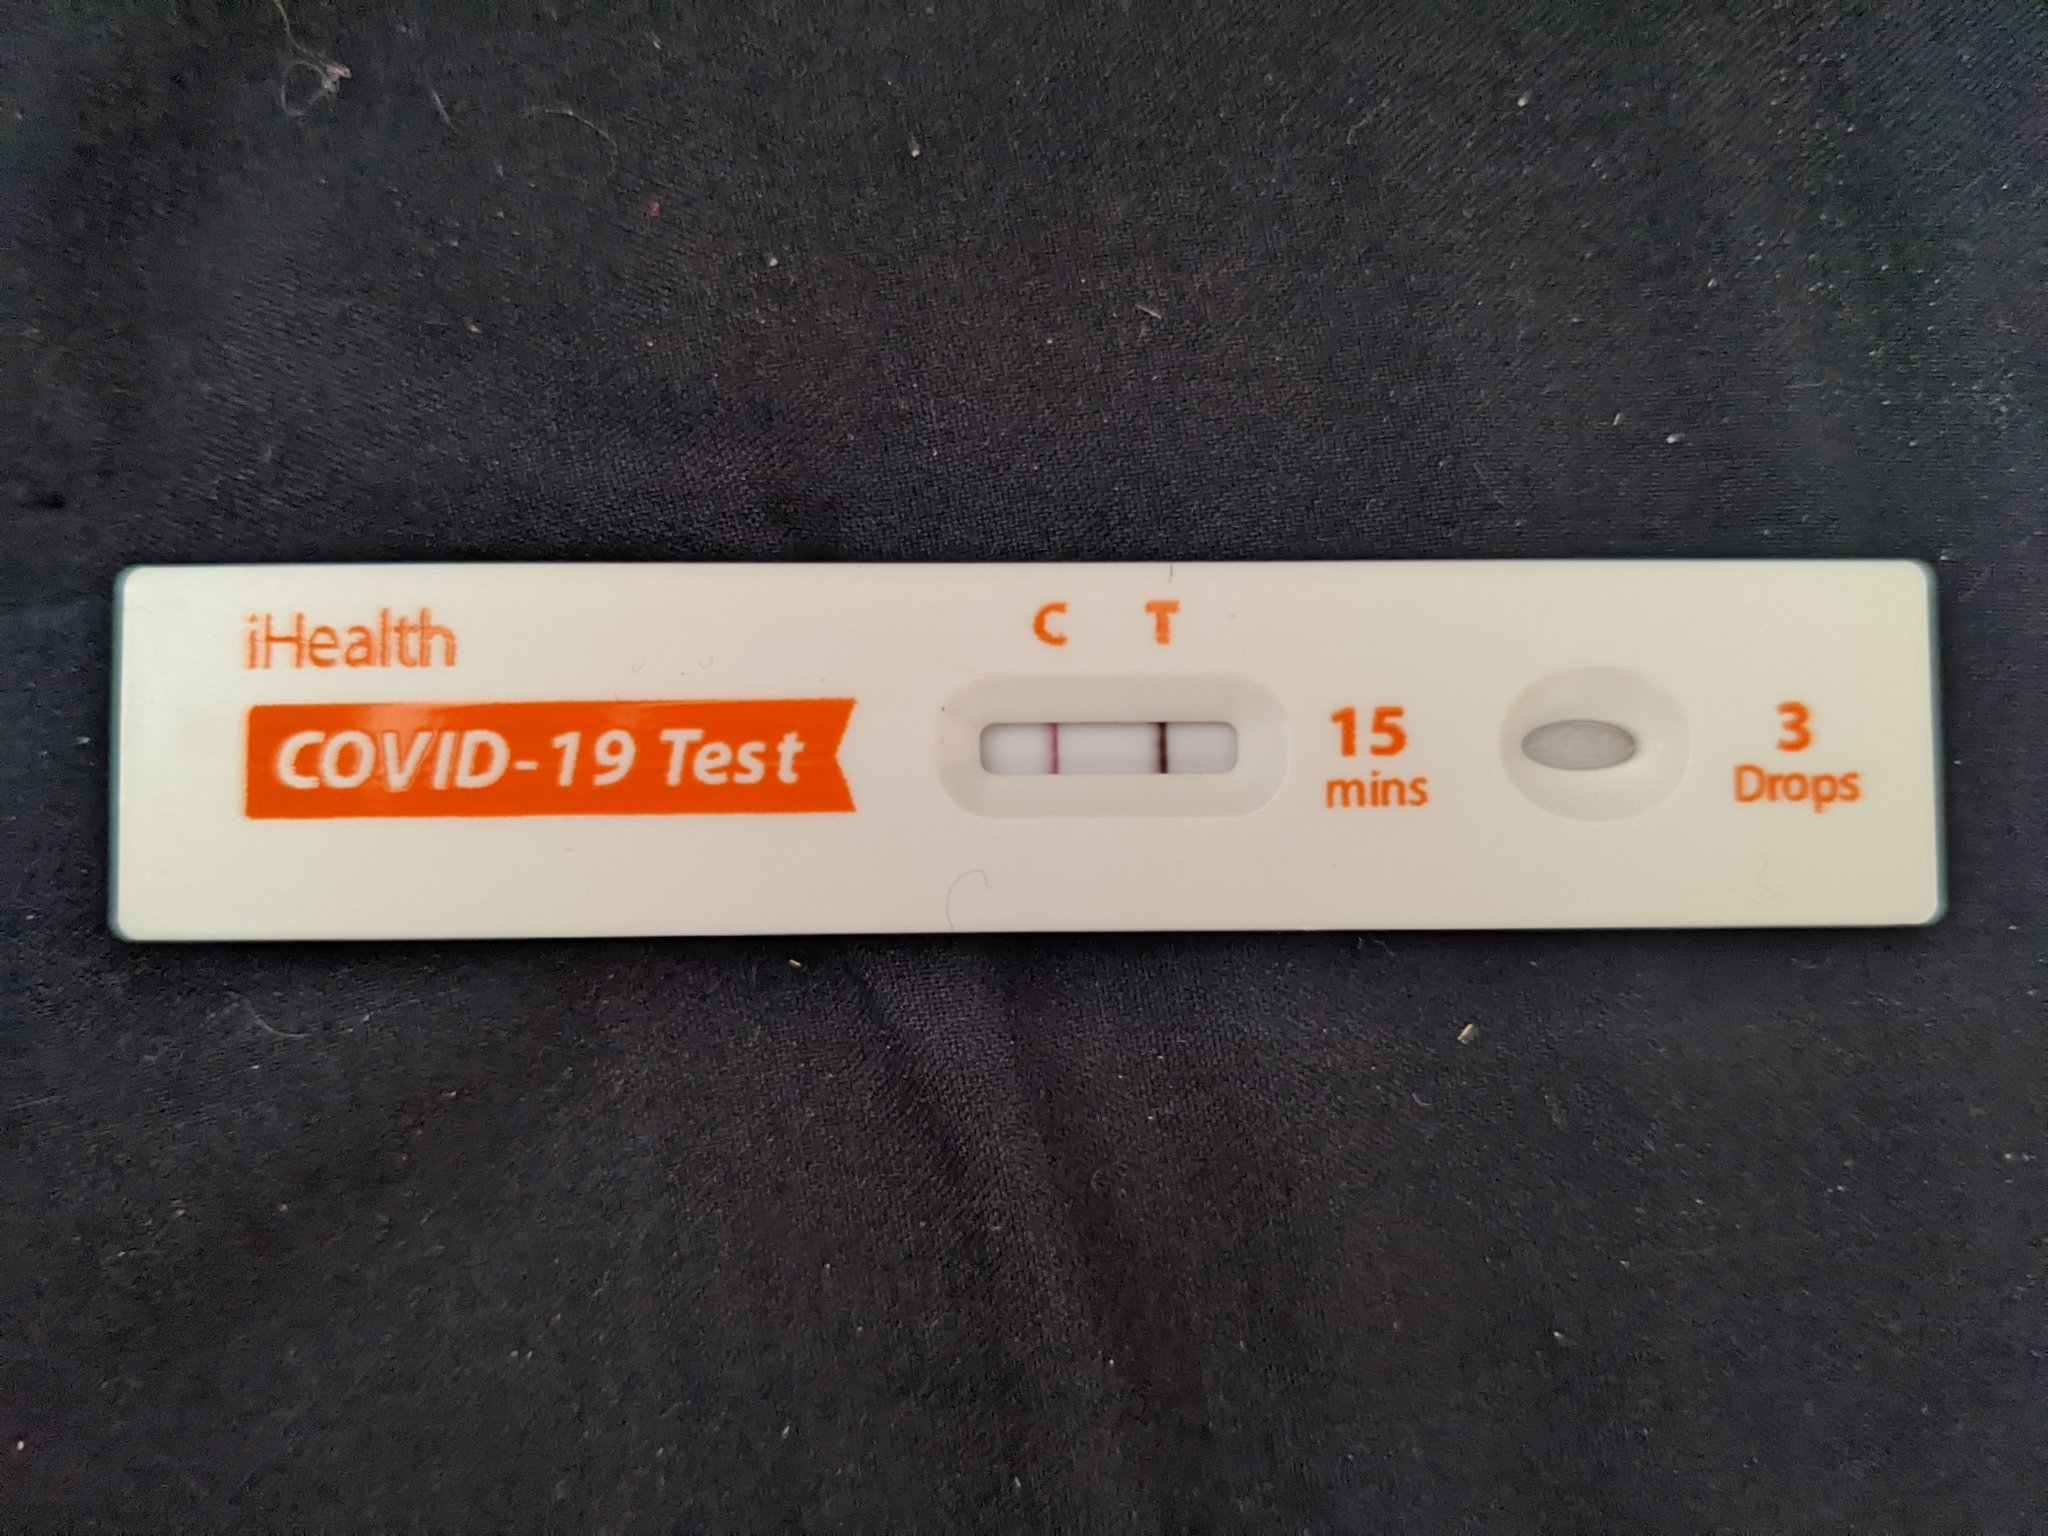positive: (961, 695, 1261, 794)
